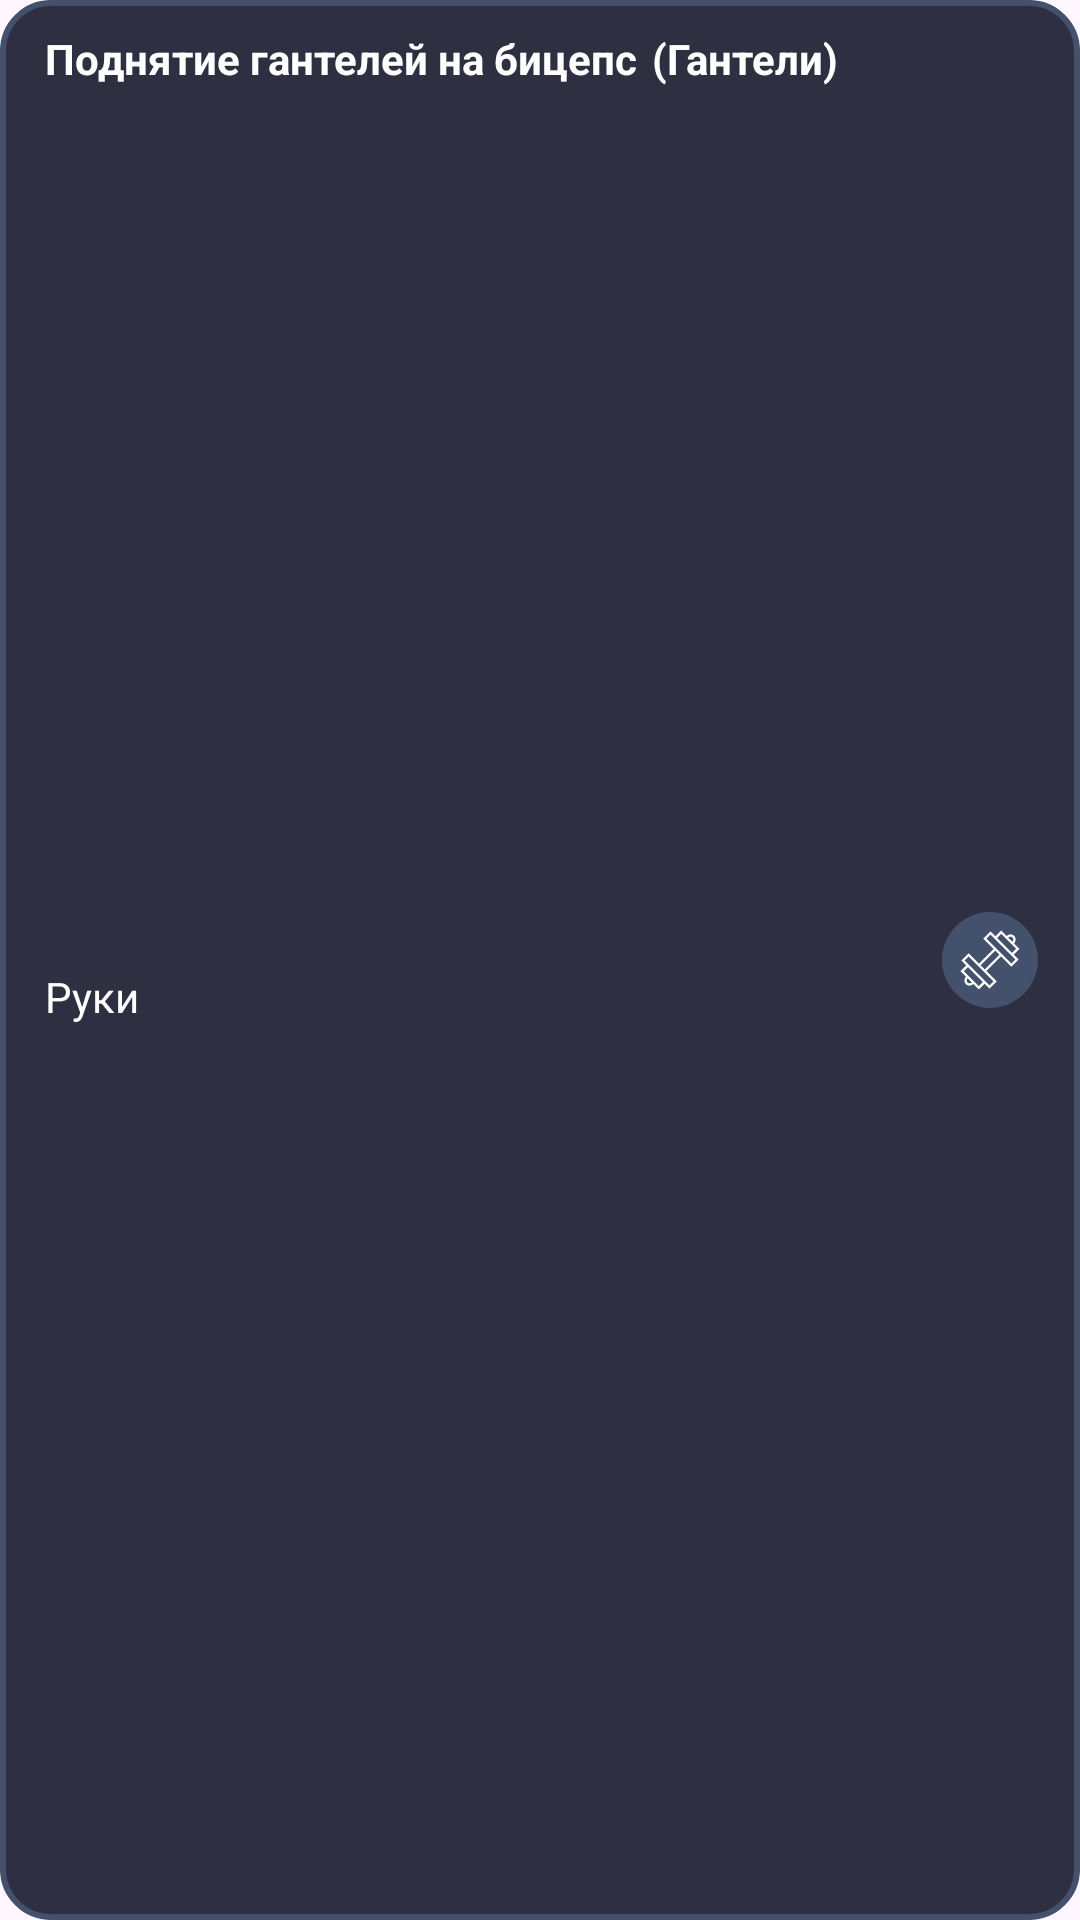

Locate icon controls on the screen. Image size 1080×1920, boxes as {"x1": x1, "y1": y1, "x2": x2, "y2": y2}.
dumbebell: {"x1": 942, "y1": 912, "x2": 1038, "y2": 1008}
